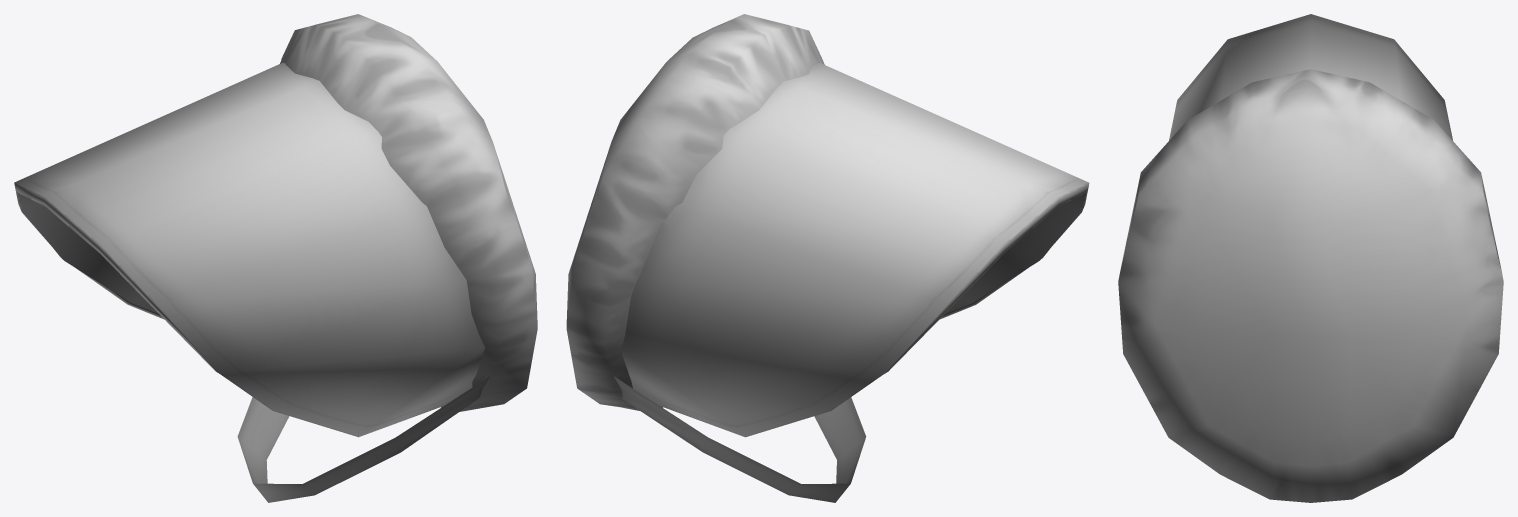
File: Bonnet_tied.fbx
3 views of the same model, side by side, from view 1: azimuth 30°, elevation 25°; view 2: azimuth 150°, elevation 25°; view 3: azimuth 270°, elevation 25° (orthographic). The views are drawn at different scales.
Visible parts, largest first — view 1: Bonnet_Tied; view 2: Bonnet_Tied; view 3: Bonnet_Tied.
Part boxes in pixels (x1,y1,x2,y2): Bonnet_Tied: (14, 14, 537, 502); Bonnet_Tied: (566, 14, 1089, 502); Bonnet_Tied: (1118, 14, 1503, 502).
Bounding box in the file's own units: 0.1836 × 0.1774 × 0.1423.
